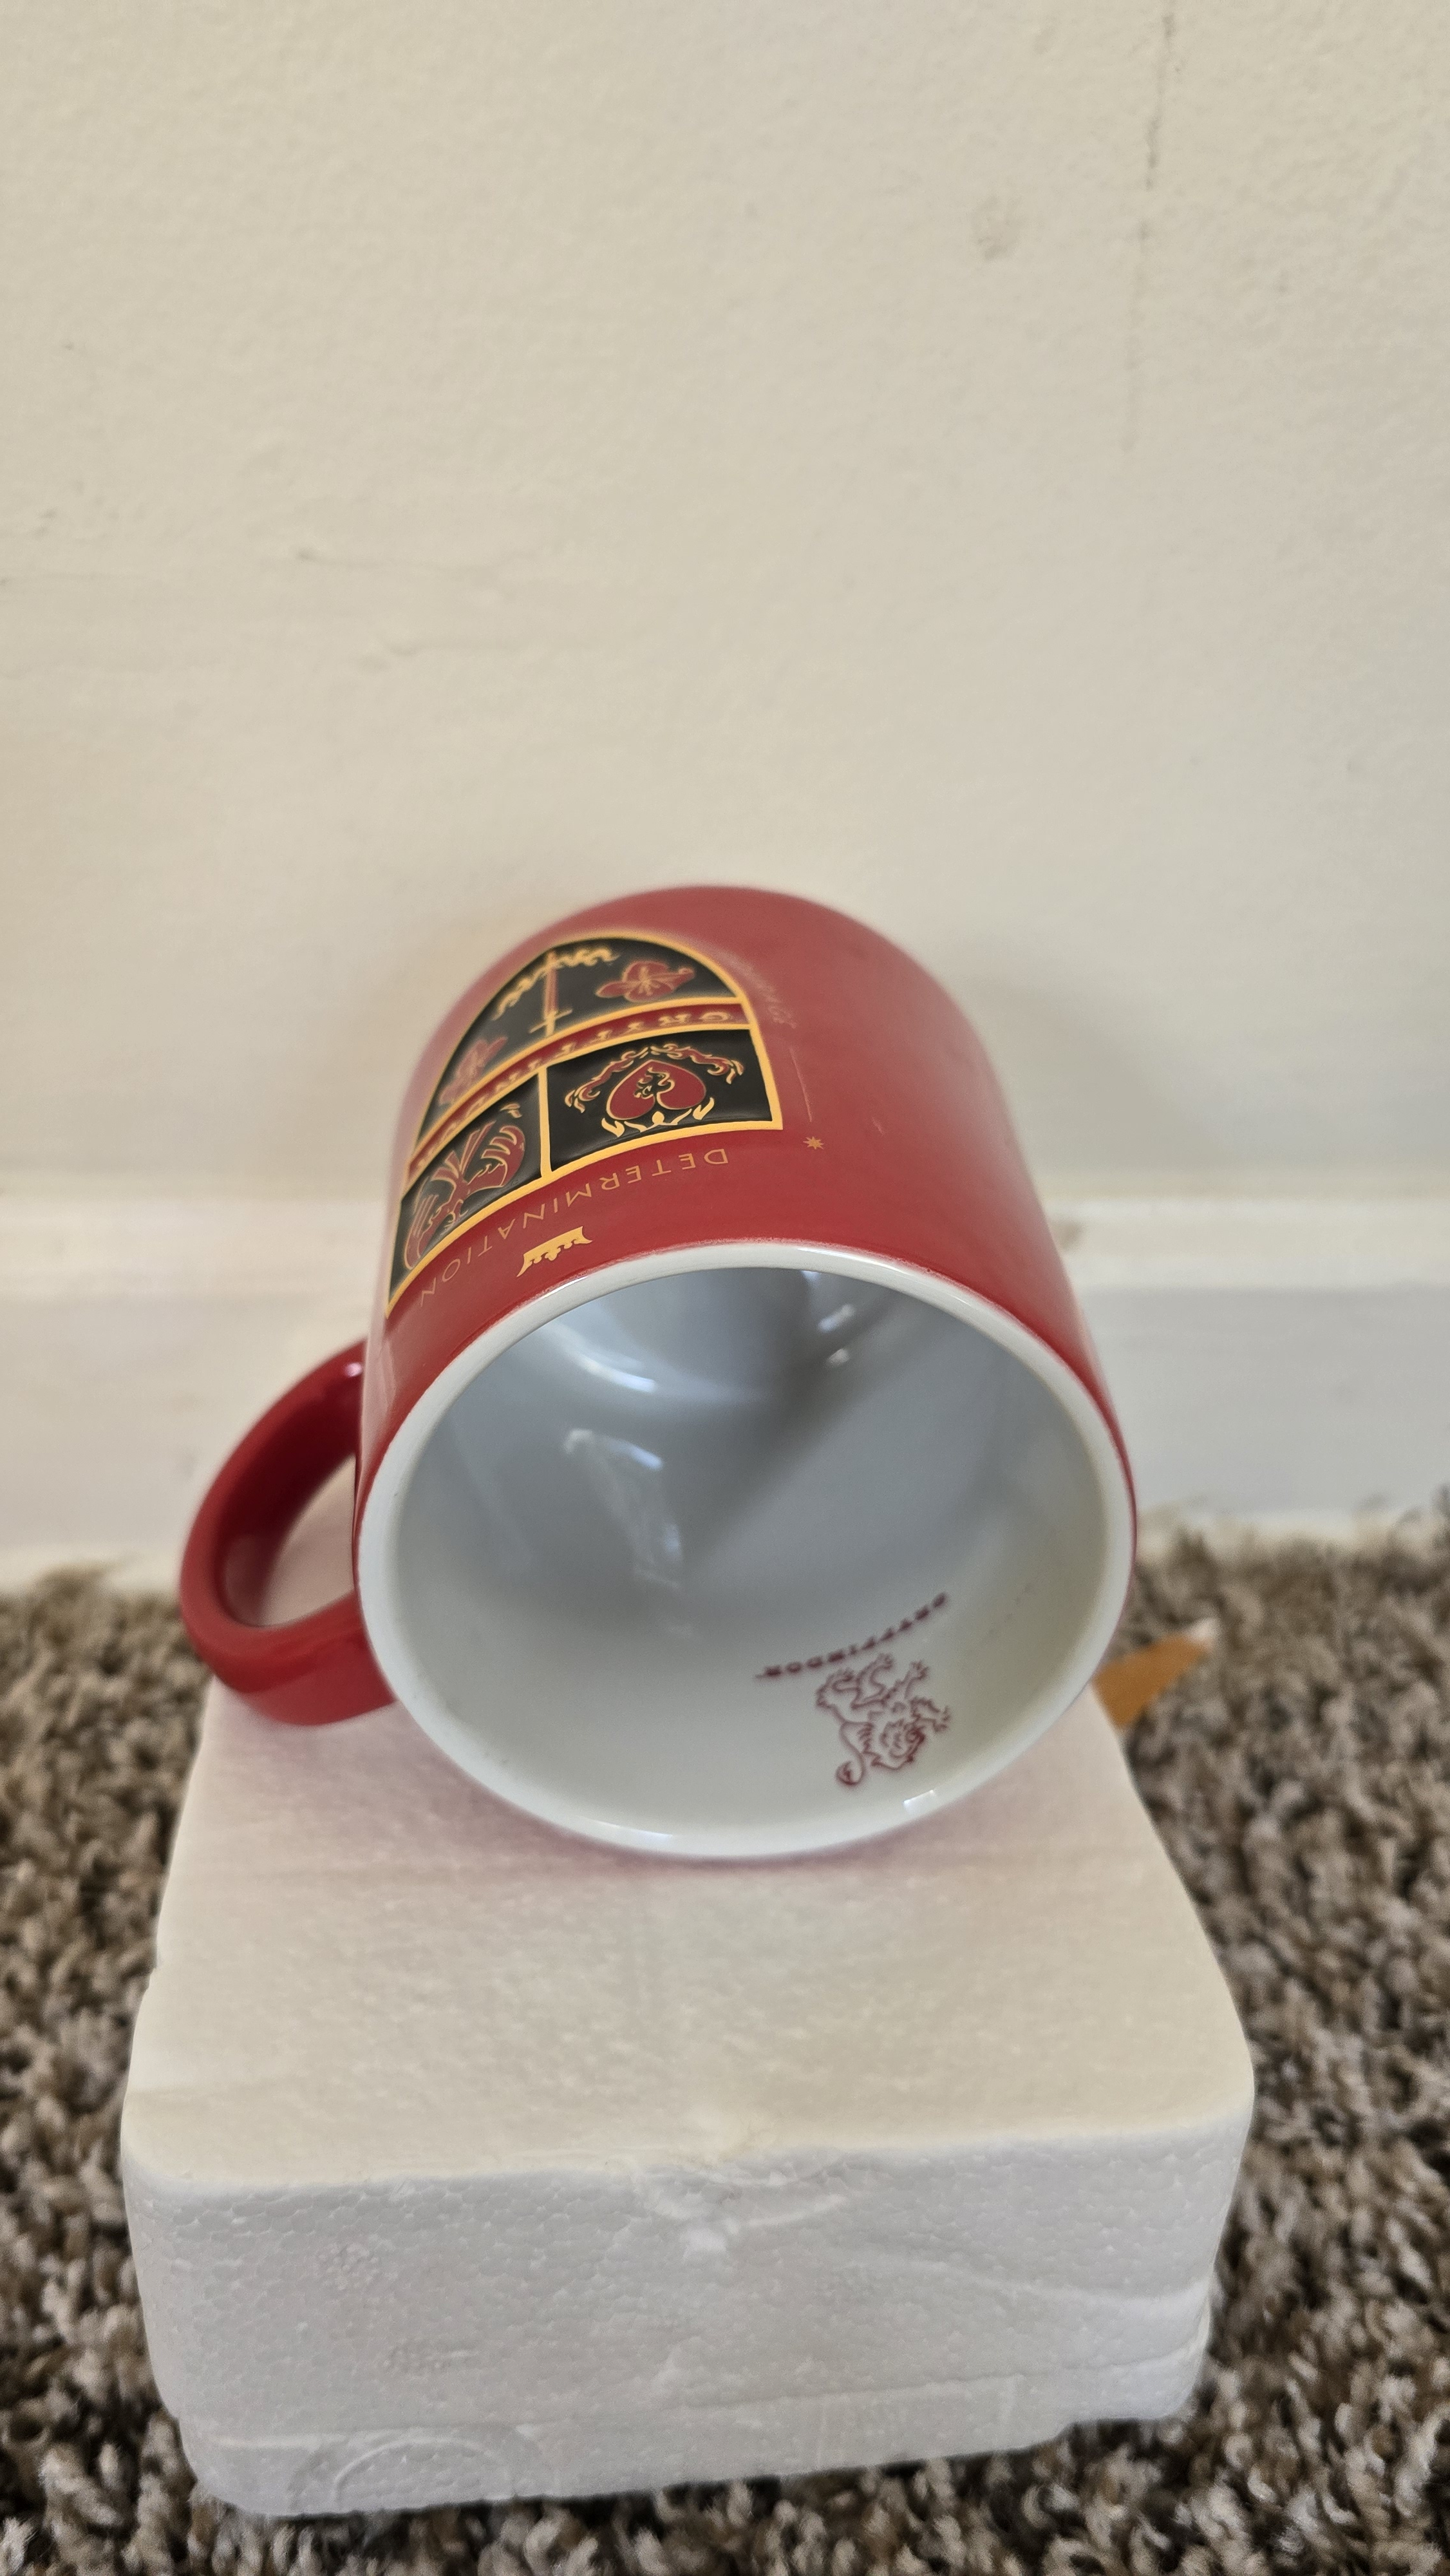mug: (147, 816, 1282, 1875)
